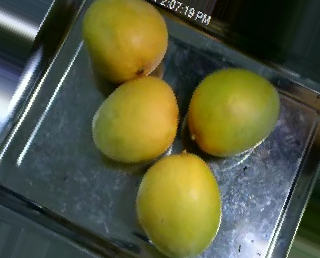Mango: (135, 154, 220, 255), (190, 67, 276, 155), (89, 76, 178, 159), (83, 1, 166, 81)
